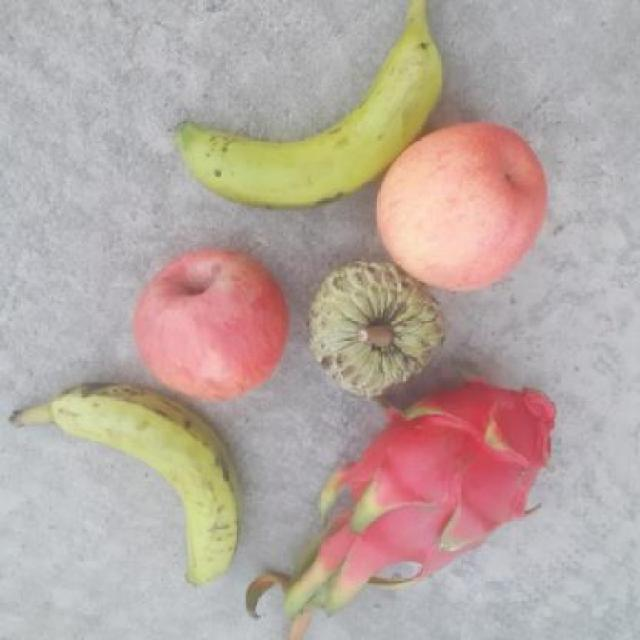apple: (376, 120, 552, 292), (119, 244, 290, 401)
banana: (173, 33, 444, 210), (43, 378, 243, 590)
dragon fruit: (345, 378, 560, 572)
sugar apple: (308, 257, 450, 401)
